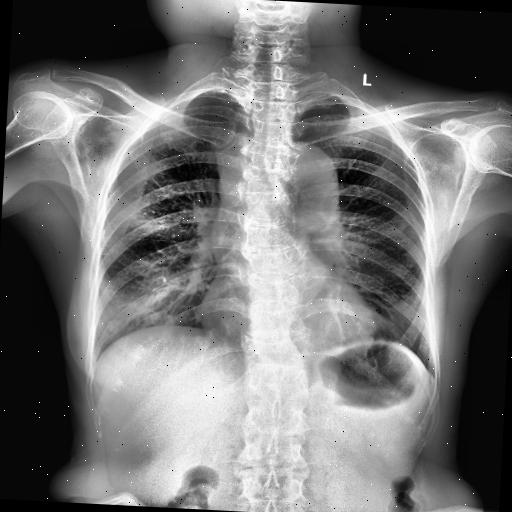0- Aortic enlargement: (274, 140, 343, 228), (284, 144, 342, 230), (288, 140, 340, 203)
3- Cardiomegaly: (196, 274, 380, 346)
9- Other lesion: (105, 320, 124, 332)
